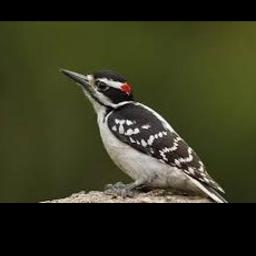Woodpecker: (60, 67, 229, 203)
